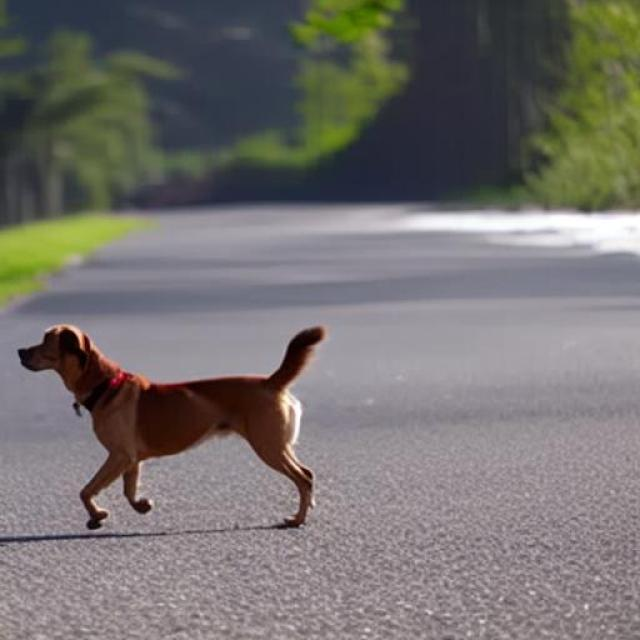Dog: (18, 324, 324, 529)
